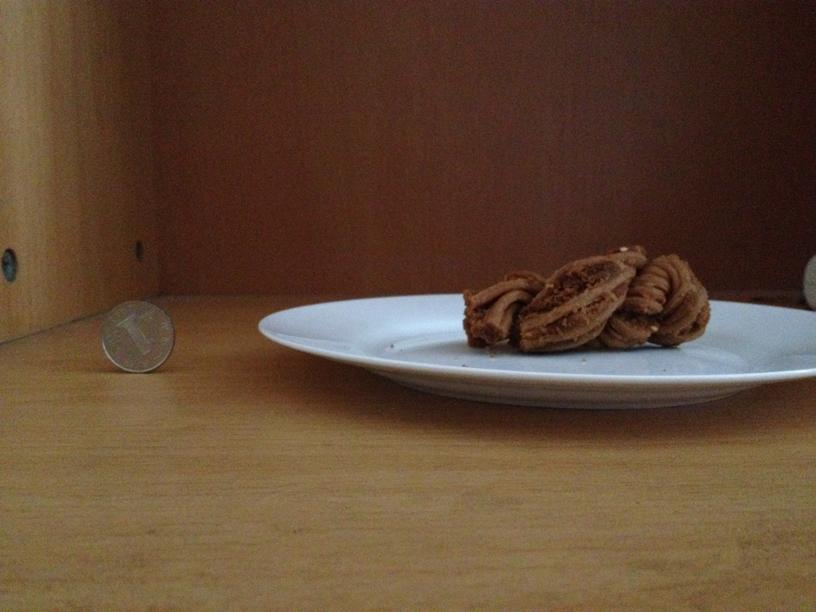coin: (99, 295, 174, 373)
fired_dough_twist: (457, 258, 709, 352)
